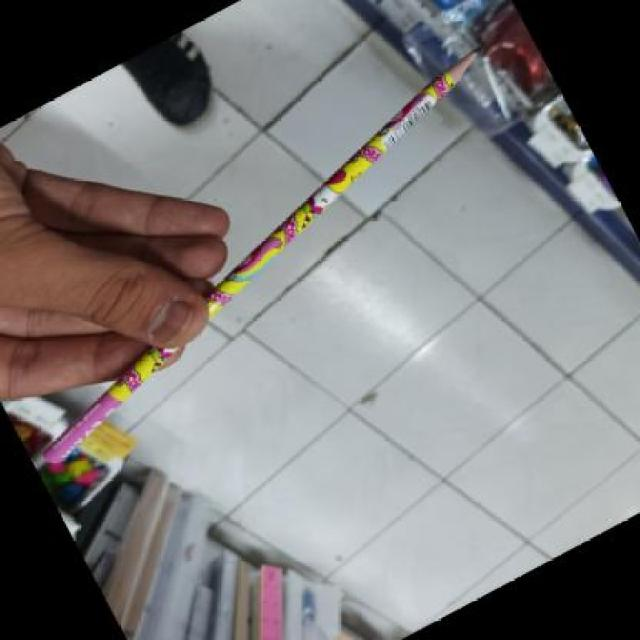pencil: (49, 50, 476, 464)
